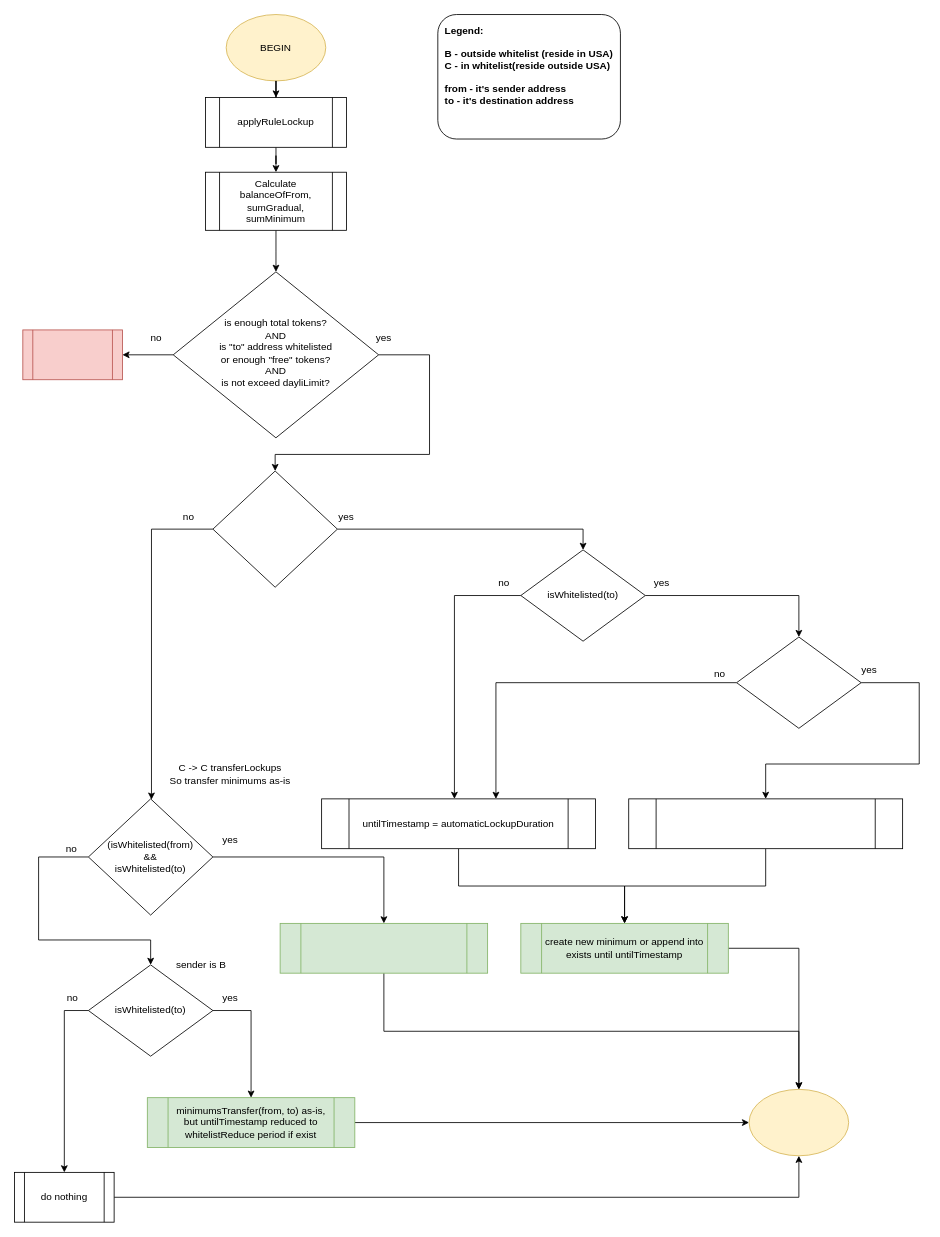
This 940x1237 diagram has some shape labels left out. Each missing label, with the box of its shape:
END: (748, 1089, 849, 1156)
Have "from" address automatic lockup?: (212, 470, 337, 587)
minimumsTransfer(from, to) as-is: (279, 923, 488, 973)
REVERT: (22, 329, 122, 380)
untilTimestamp = minimum of [automaticLockupDuration;reducePeriod]: (628, 798, 903, 849)
whitelistReduce period exists?: (736, 636, 861, 728)
